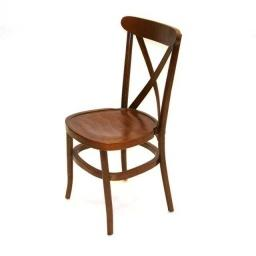Chair: (64, 15, 183, 233)
